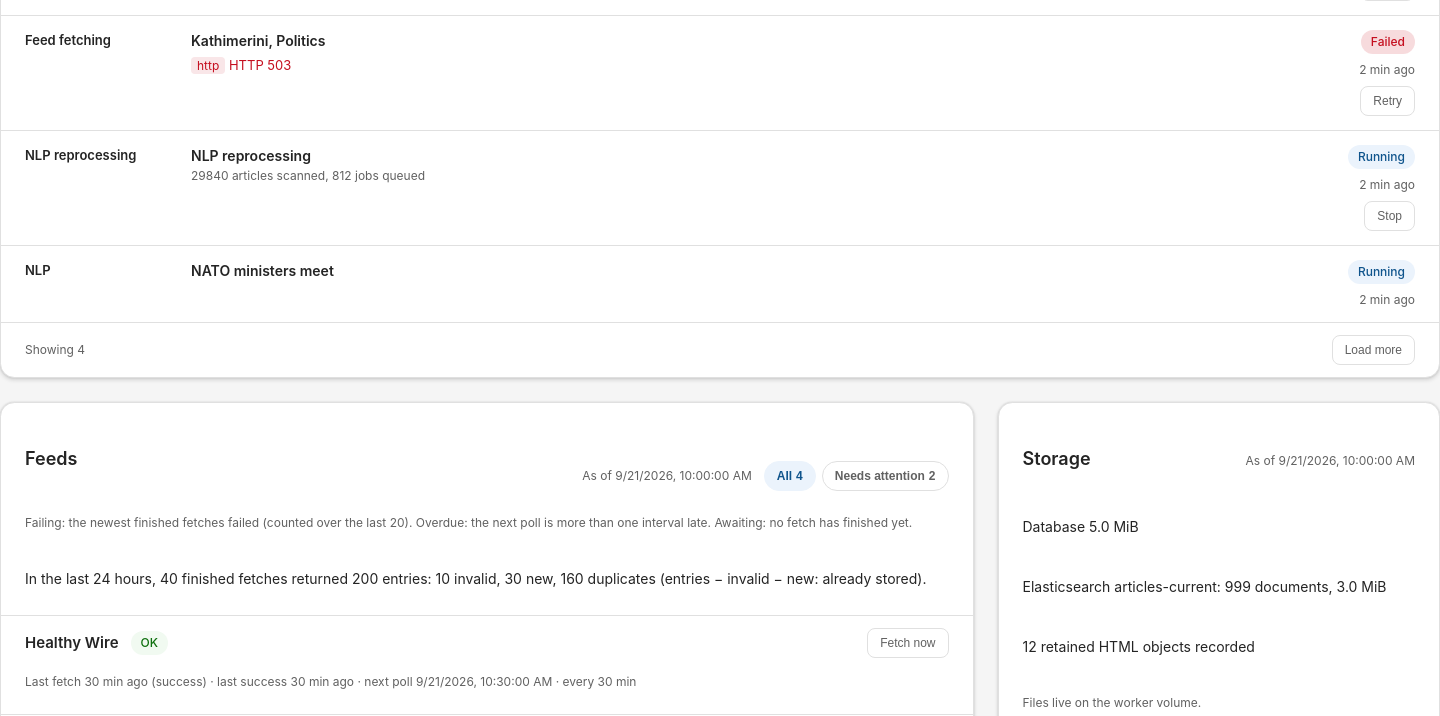
Test: loads the next page of activity under the first
The image size is (1440, 716).
(page scrolled)
Click the button "Load more": (1373, 350) [1332,334,1415,364]
(page scrolled)
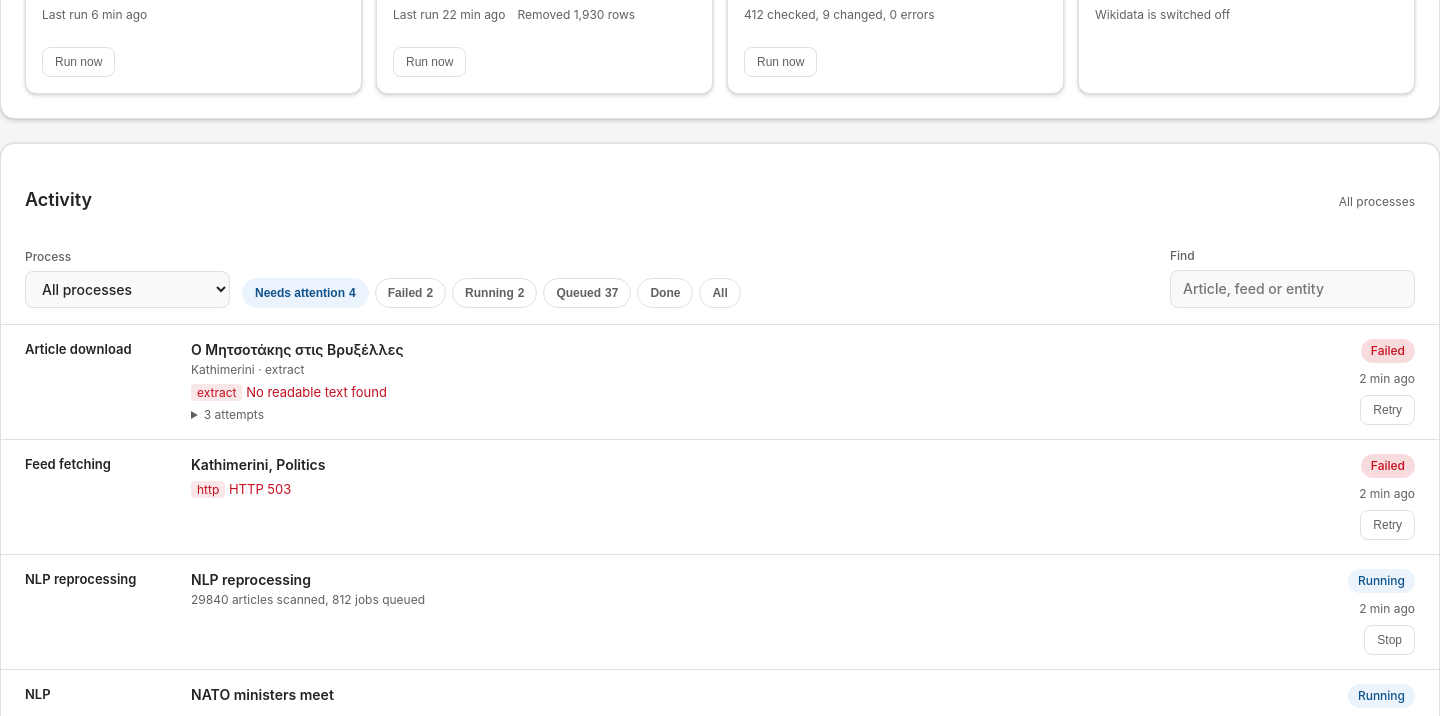
Check: the link "Ο Μητσοτάκης στις Βρυξέλλες" is shown, box [191,340,404,358]
Check: the button "Load more" is gone
